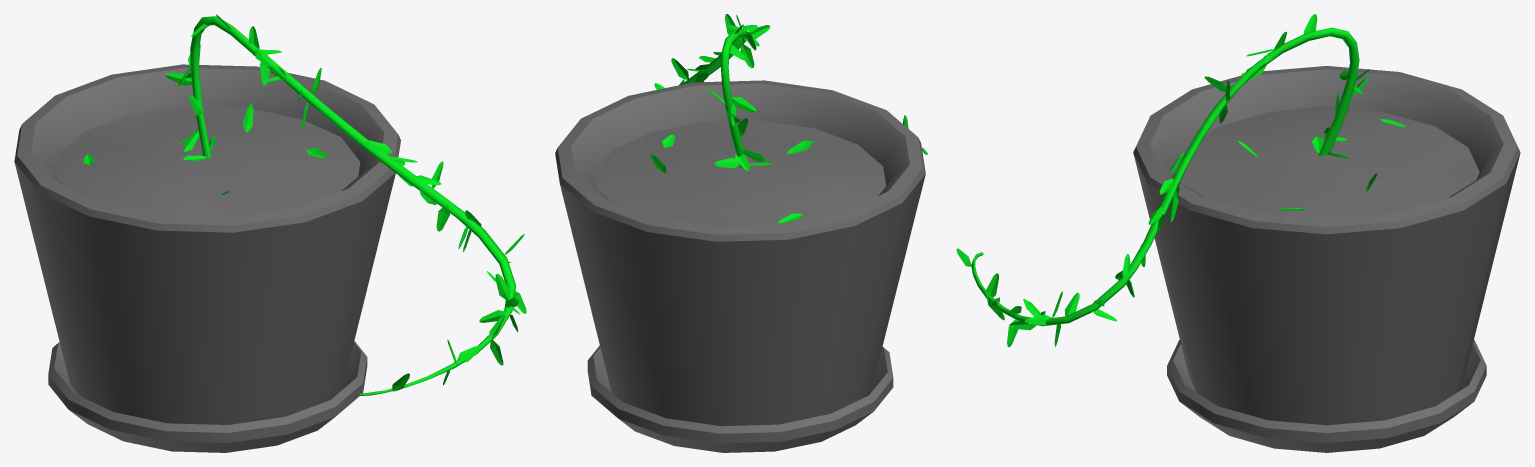
Rendered from SM_PlantPot.fbx.
3 renders of one model, left to right at view 1: azimuth 30°, elevation 25°; view 2: azimuth 150°, elevation 25°; view 3: azimuth 270°, elevation 25°, orthographic. The views are drawn at different scales.
Visible parts, largest first — view 1: SM_PotWithPlants, SM_Branch, SM_Leaf; view 2: SM_PotWithPlants, SM_Leaf, SM_Branch; view 3: SM_PotWithPlants, SM_Branch, SM_Leaf.
Part boxes in pixels (<box>): SM_PotWithPlants: <box>14,64,400,452</box>; SM_Branch: <box>190,16,515,395</box>; SM_Leaf: <box>83,14,526,391</box>; SM_PotWithPlants: <box>555,80,925,452</box>; SM_Leaf: <box>650,14,908,223</box>; SM_Branch: <box>681,29,927,167</box>; SM_PotWithPlants: <box>1133,66,1520,452</box>; SM_Branch: <box>971,27,1359,326</box>; SM_Leaf: <box>956,14,1405,347</box>.
Size of the model in its own units: 23.99 by 23.68 by 31.71.
